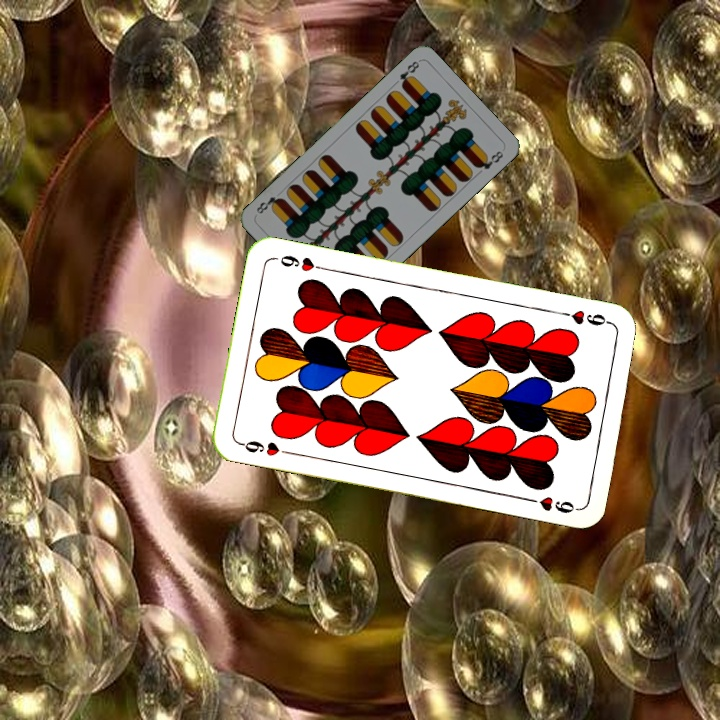E8: (395, 57, 422, 90)
H9: (235, 436, 294, 459), (556, 306, 615, 329)
